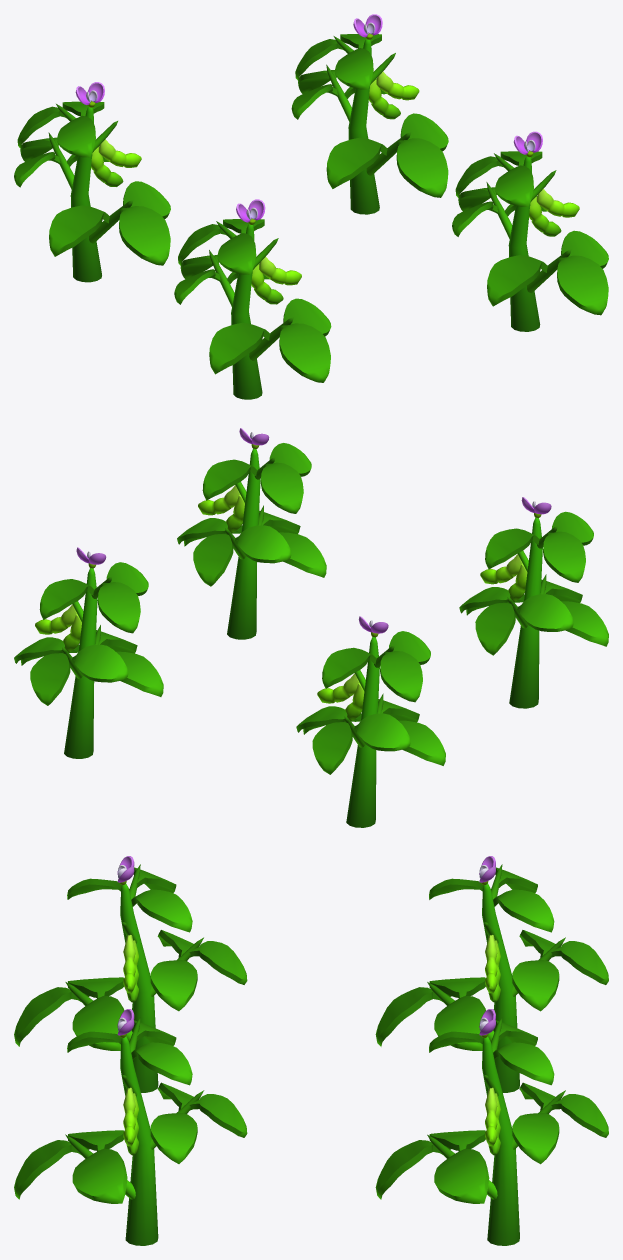
File: Farm_Crop_Soybean_Step_02.fbx
3 renders of one model, top to bottom at view 1: azimuth 30°, elevation 25°; view 2: azimuth 150°, elevation 25°; view 3: azimuth 270°, elevation 25°, orthographic. The views are drawn at different scales.
Parts seen in each view (by area): view 1: Farm_Crop_Soybean_Step_02; view 2: Farm_Crop_Soybean_Step_02; view 3: Farm_Crop_Soybean_Step_02.
Part boxes in pixels (<box>): Farm_Crop_Soybean_Step_02: <box>14,14,608,399</box>; Farm_Crop_Soybean_Step_02: <box>14,428,608,827</box>; Farm_Crop_Soybean_Step_02: <box>14,856,608,1245</box>.
Bounding box in the file's own units: 147 × 67.57 × 164.
